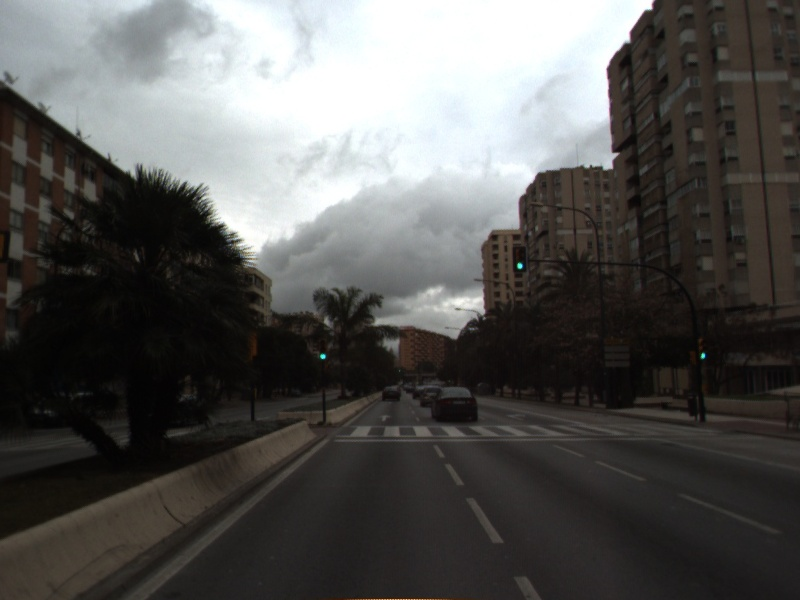RIGHT: (504, 410, 528, 424)
STRAIGHT: (376, 413, 394, 424)
